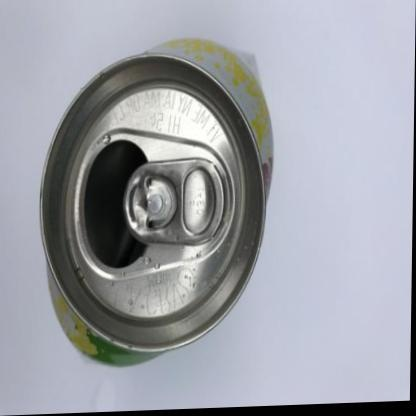trash: (41, 38, 271, 364)
